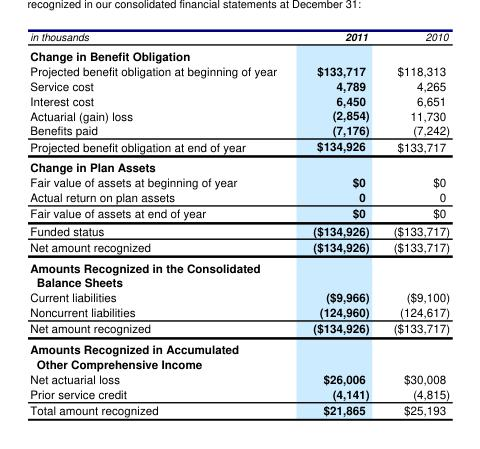table: (29, 28, 449, 417)
table column: (29, 28, 294, 417), (294, 28, 380, 417), (380, 28, 449, 417)
table column header: (29, 28, 449, 45)
table projected row header: (29, 256, 449, 289), (29, 338, 449, 371), (29, 156, 449, 174), (29, 45, 449, 62)
table row: (29, 256, 449, 289), (29, 338, 449, 371), (29, 137, 449, 156), (29, 319, 449, 338), (29, 156, 449, 174), (29, 238, 449, 256), (29, 28, 449, 45), (29, 45, 449, 62), (29, 204, 449, 221), (29, 221, 449, 238), (29, 401, 449, 417), (29, 62, 449, 77), (29, 77, 449, 92), (29, 92, 449, 107), (29, 107, 449, 122), (29, 122, 449, 137), (29, 174, 449, 189), (29, 189, 449, 204), (29, 289, 449, 304), (29, 304, 449, 319), (29, 371, 449, 386), (29, 386, 449, 401)
